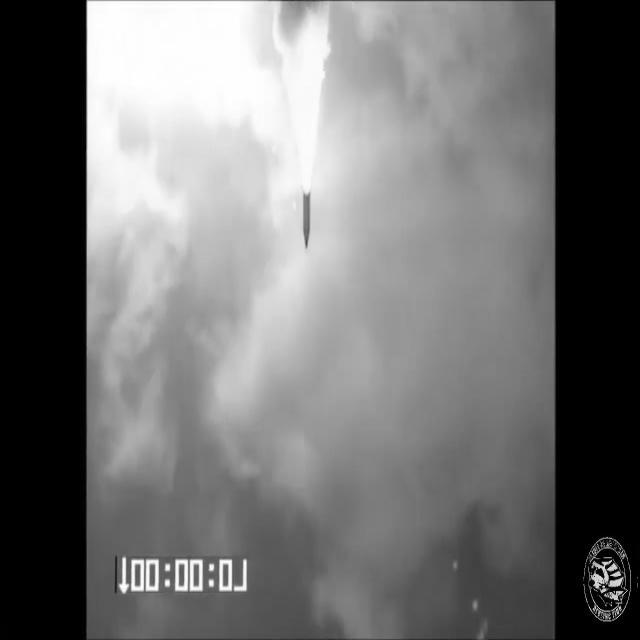Missile: (300, 176, 314, 258)
